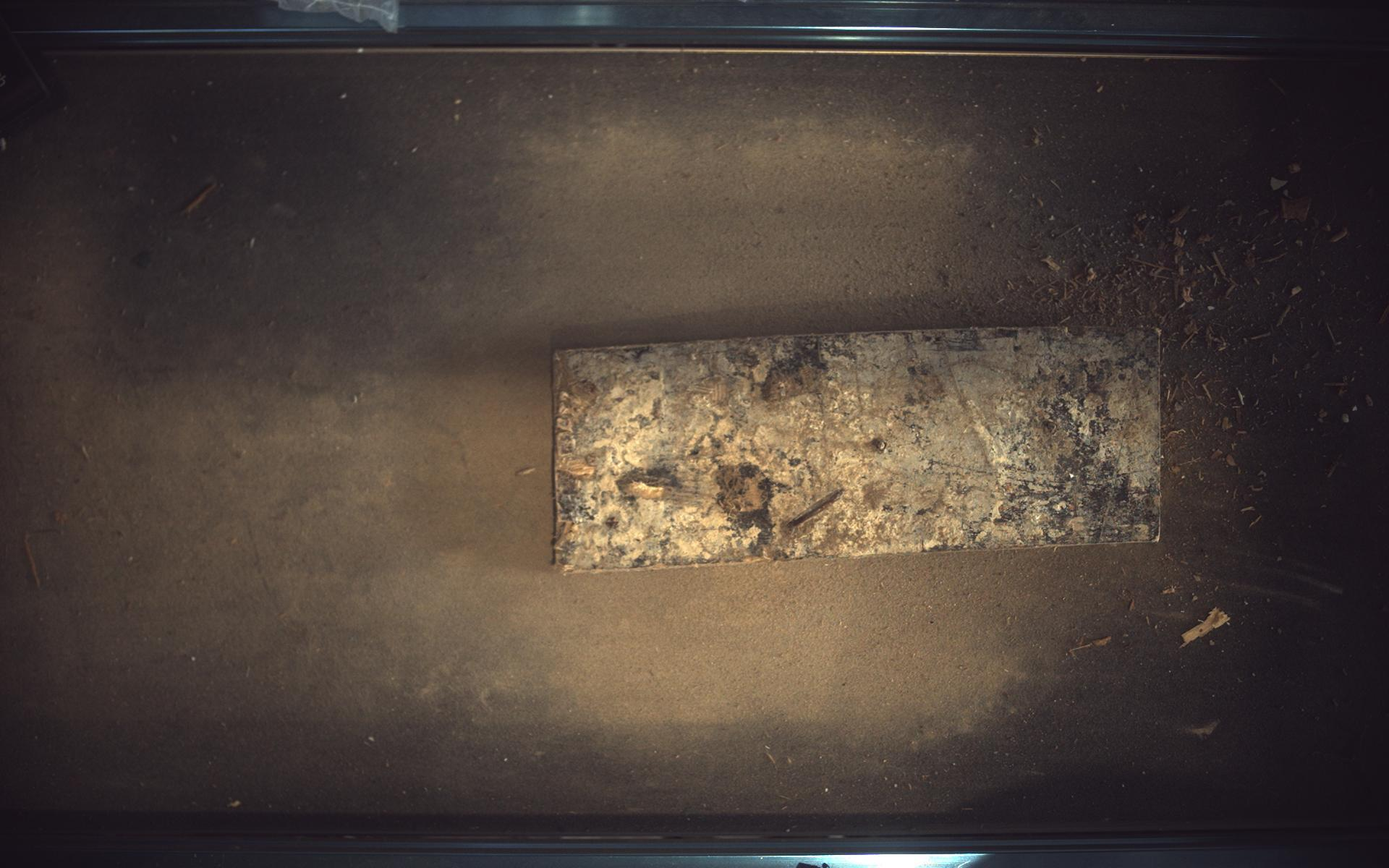wood: (554, 328, 1163, 571)
